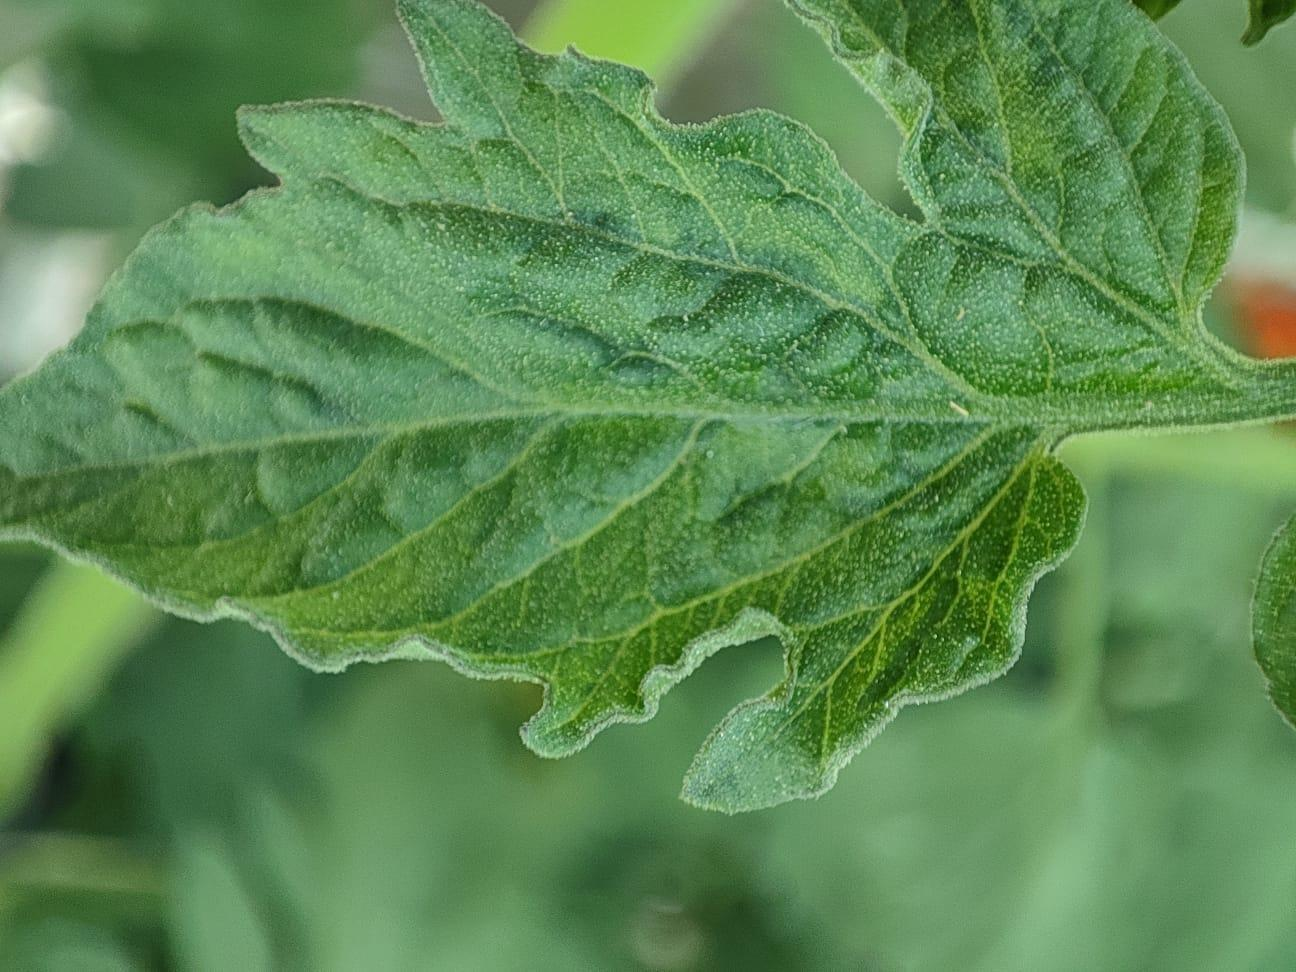Hoja rugoso: (0, 5, 1079, 804), (797, 0, 1243, 318)
